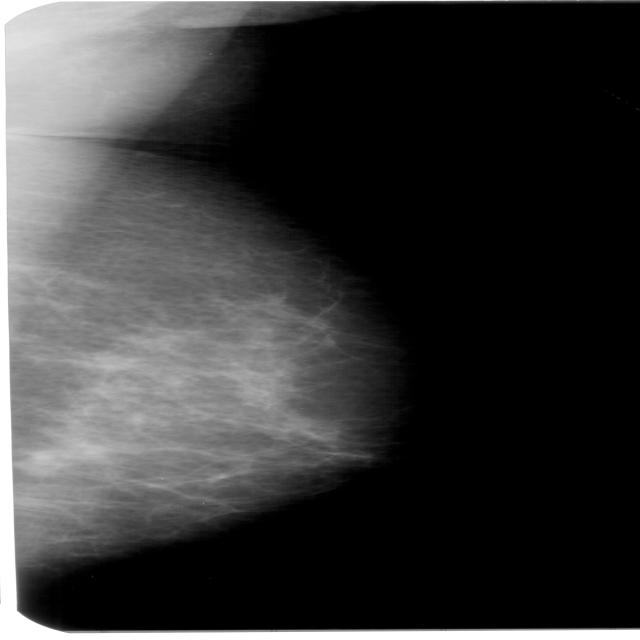cancer: (26, 274, 346, 543)
